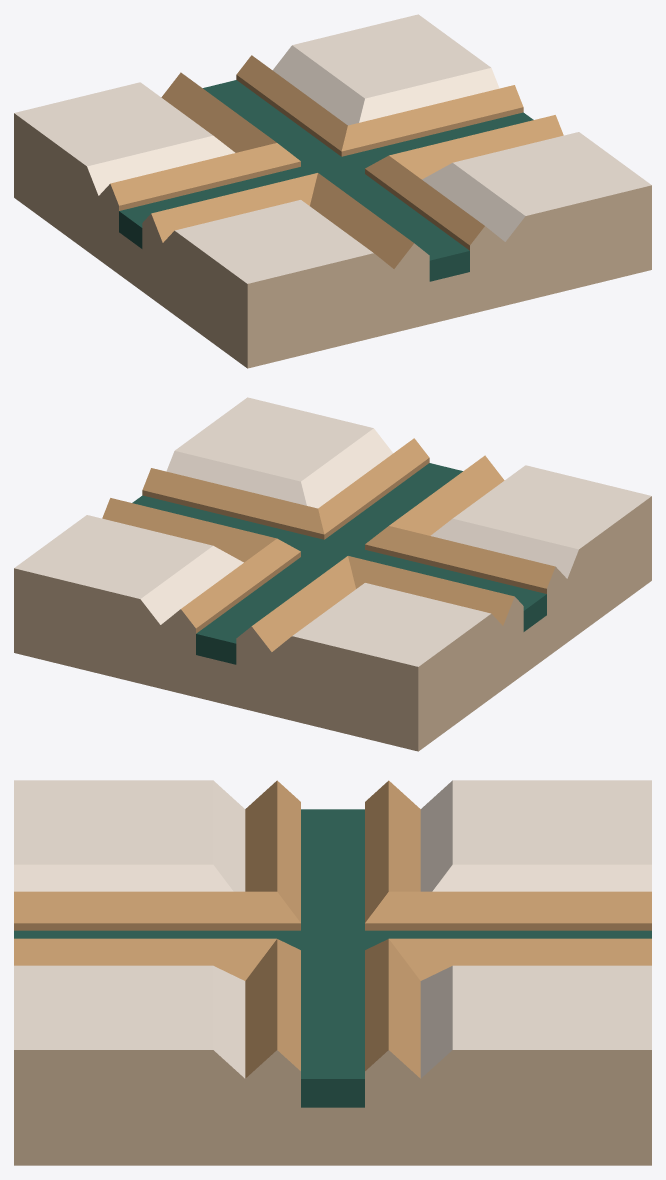
Rendered from Puzzle_Floor_Conduit_Standard_Cross.obj.
3 views of the same model, one above another, from view 1: azimuth 30°, elevation 25°; view 2: azimuth 150°, elevation 25°; view 3: azimuth 270°, elevation 25° (orthographic). The views are drawn at different scales.
Visible parts, largest first — view 1: object2, object1; view 2: object2, object1; view 3: object2, object1.
Part boxes in pixels (<box>): object2: <box>14,14,651,368</box>; object1: <box>119,80,533,281</box>; object2: <box>14,397,651,751</box>; object1: <box>132,463,546,664</box>; object2: <box>14,780,651,1165</box>; object1: <box>14,809,651,1107</box>.
Bounding box in the file's own units: 1 × 0.2 × 1.
